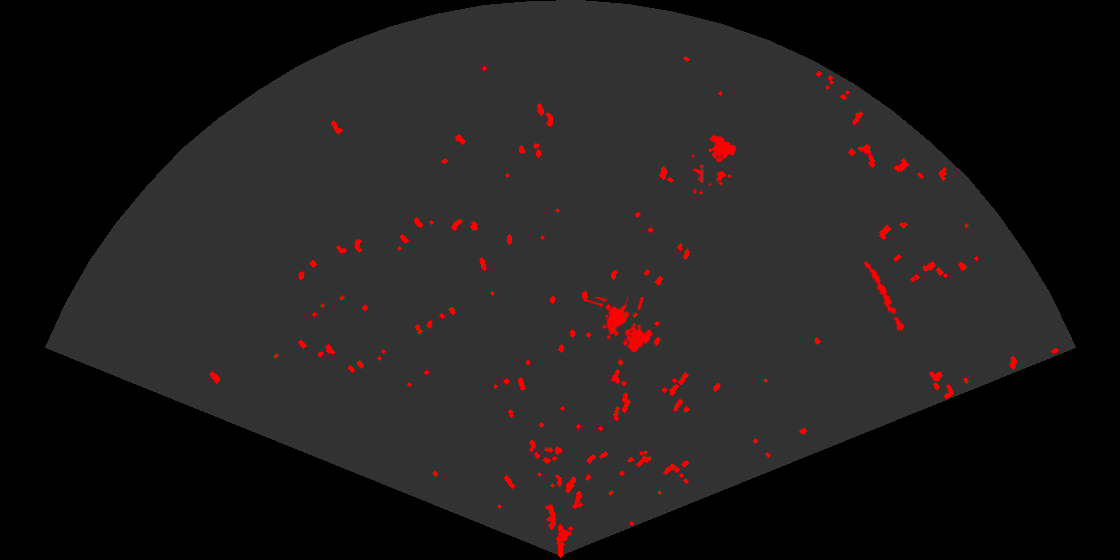cage: (586, 297, 655, 354), (692, 133, 738, 194)
chain: (862, 260, 906, 334)
